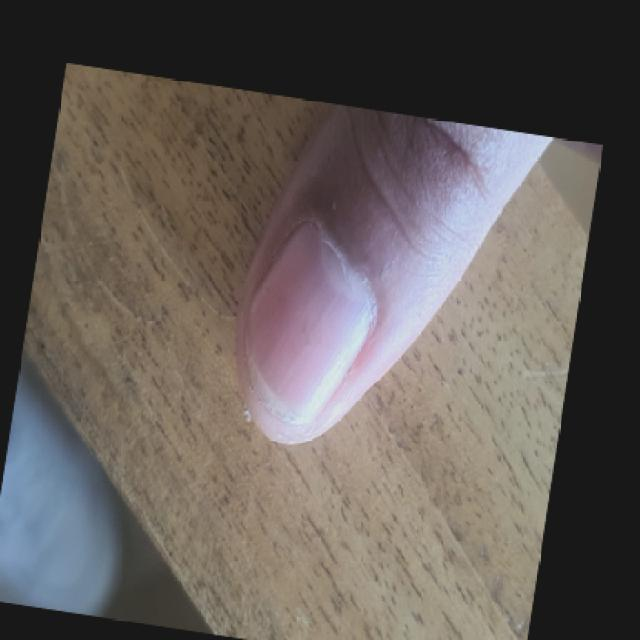Nail: (243, 225, 374, 433)
